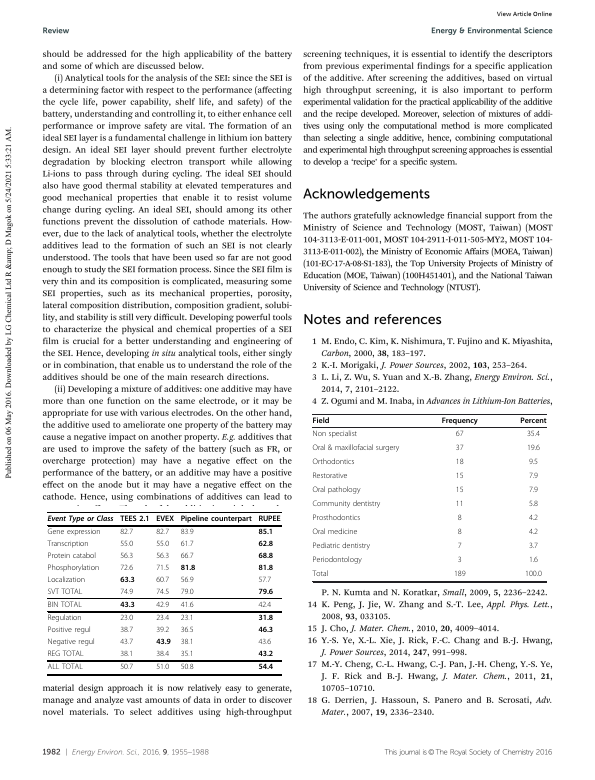borderless: (311, 413, 546, 581), (46, 511, 281, 674)
cell: (312, 444, 400, 454), (312, 500, 381, 510), (180, 515, 253, 524), (47, 515, 114, 524), (312, 542, 371, 552), (47, 528, 101, 538), (47, 564, 100, 574), (312, 556, 363, 566), (47, 552, 97, 562), (312, 486, 361, 496), (312, 514, 361, 524), (47, 638, 96, 648), (312, 430, 358, 440), (312, 528, 358, 538), (47, 626, 92, 636), (312, 458, 355, 468), (47, 540, 89, 550), (47, 576, 86, 586), (47, 650, 84, 660), (312, 472, 348, 482), (47, 601, 83, 611), (47, 614, 83, 624), (441, 417, 479, 426), (47, 664, 84, 673), (47, 588, 83, 597), (119, 515, 150, 524), (519, 417, 547, 426), (257, 515, 282, 524), (524, 570, 543, 580), (155, 515, 175, 524), (312, 570, 329, 580), (257, 614, 274, 624), (257, 626, 274, 636), (155, 638, 172, 648), (257, 650, 274, 660), (312, 417, 330, 426), (257, 528, 274, 537), (257, 540, 274, 549), (257, 552, 274, 561), (257, 564, 274, 573), (119, 576, 136, 585), (257, 588, 274, 597), (119, 601, 136, 610), (257, 664, 274, 673), (526, 430, 541, 440), (526, 444, 541, 454), (119, 528, 134, 538), (155, 528, 170, 538), (119, 540, 134, 550), (155, 540, 170, 550), (119, 552, 134, 562), (155, 552, 170, 562), (119, 564, 134, 574), (155, 564, 170, 574), (155, 576, 170, 586), (257, 576, 272, 586), (155, 601, 170, 611), (257, 601, 272, 611), (119, 614, 134, 624), (155, 614, 170, 624), (119, 626, 134, 636), (155, 626, 170, 636), (119, 638, 134, 648), (257, 638, 272, 648), (119, 650, 134, 660), (155, 650, 170, 660), (180, 564, 196, 573), (180, 528, 194, 538), (180, 540, 194, 550), (180, 552, 194, 562), (180, 576, 194, 586), (180, 601, 194, 611), (180, 614, 194, 624), (180, 626, 194, 636), (180, 638, 194, 648), (180, 650, 194, 660), (119, 588, 134, 597), (155, 588, 170, 597), (119, 664, 134, 673), (155, 664, 170, 673), (453, 570, 466, 580), (180, 588, 194, 597), (180, 664, 194, 673), (528, 458, 539, 468), (528, 472, 539, 482), (528, 486, 539, 496), (528, 500, 539, 510), (528, 514, 539, 524), (528, 528, 539, 538), (528, 542, 539, 552), (528, 556, 539, 566), (455, 430, 464, 440), (455, 444, 464, 454), (455, 458, 464, 468), (455, 472, 464, 482), (455, 486, 464, 496), (455, 500, 464, 510), (457, 514, 463, 524), (457, 528, 463, 538), (457, 542, 463, 552), (457, 556, 463, 566)
